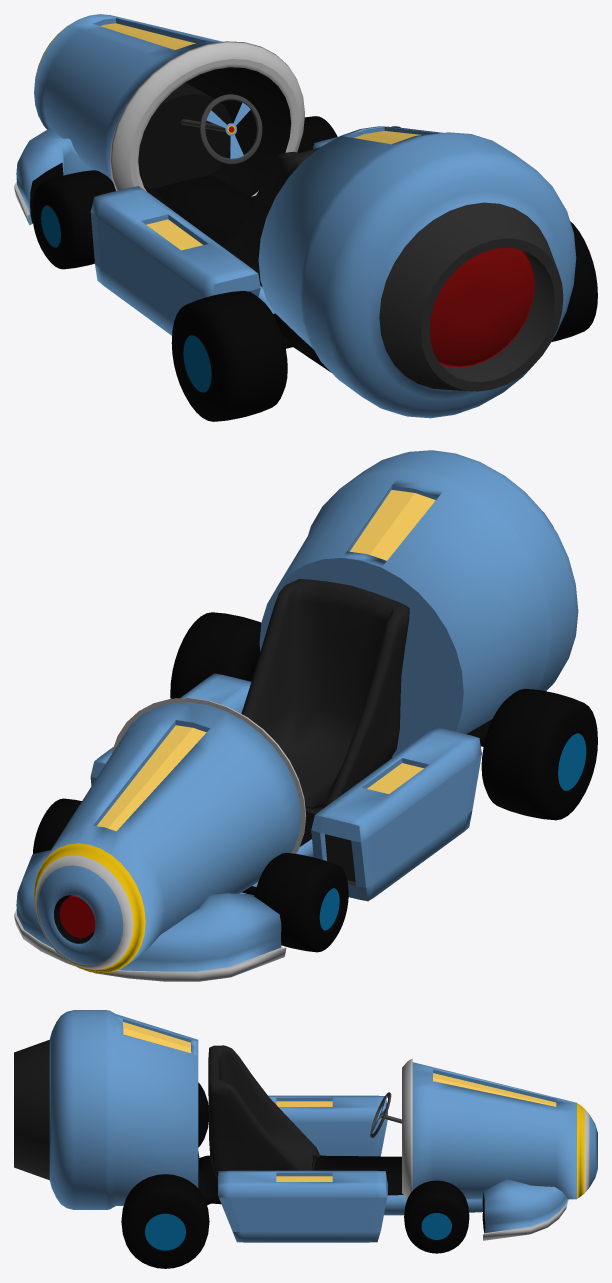
Rendered from Kart.fbx.
The picture shows the model from 3 angles, top to bottom: view 1: azimuth 30°, elevation 25°; view 2: azimuth 150°, elevation 25°; view 3: azimuth 270°, elevation 25°; orthographic projection. The views are drawn at different scales.
Visible parts, largest first — view 1: Cube.001, Cube.002, Cylinder.003, Cylinder.001, Cube, Cylinder.002, Cylinder.004, Cylinder; view 2: Cube.001, Cube.002, Cube, Cylinder.003, Cylinder.001, Cylinder.002, Cylinder; view 3: Cube.001, Cube.002, Cube, Cylinder.002, Cylinder, Cylinder.003, Cylinder.004.
Part boxes in pixels (bbox=[...]): Cube.001: bbox=[90, 126, 576, 418]; Cube.002: bbox=[14, 14, 304, 225]; Cylinder.003: bbox=[171, 291, 293, 421]; Cylinder.001: bbox=[32, 170, 115, 269]; Cube: bbox=[223, 126, 400, 282]; Cylinder.002: bbox=[551, 221, 597, 341]; Cylinder.004: bbox=[181, 94, 262, 164]; Cylinder: bbox=[297, 116, 337, 152]; Cube.001: bbox=[90, 450, 578, 901]; Cube.002: bbox=[14, 697, 306, 981]; Cube: bbox=[241, 579, 409, 814]; Cylinder.003: bbox=[251, 680, 597, 820]; Cylinder.001: bbox=[254, 853, 348, 952]; Cylinder.002: bbox=[170, 612, 261, 698]; Cylinder: bbox=[33, 798, 256, 895]; Cube.001: bbox=[14, 1010, 482, 1242]; Cube.002: bbox=[402, 1059, 597, 1240]; Cube: bbox=[208, 1045, 320, 1178]; Cylinder.002: bbox=[121, 1174, 209, 1268]; Cylinder: bbox=[404, 1180, 469, 1253]; Cylinder.003: bbox=[198, 1082, 208, 1147]; Cylinder.004: bbox=[370, 1092, 401, 1137].
Bounding box in the file's own units: 621 × 428 × 1194.
